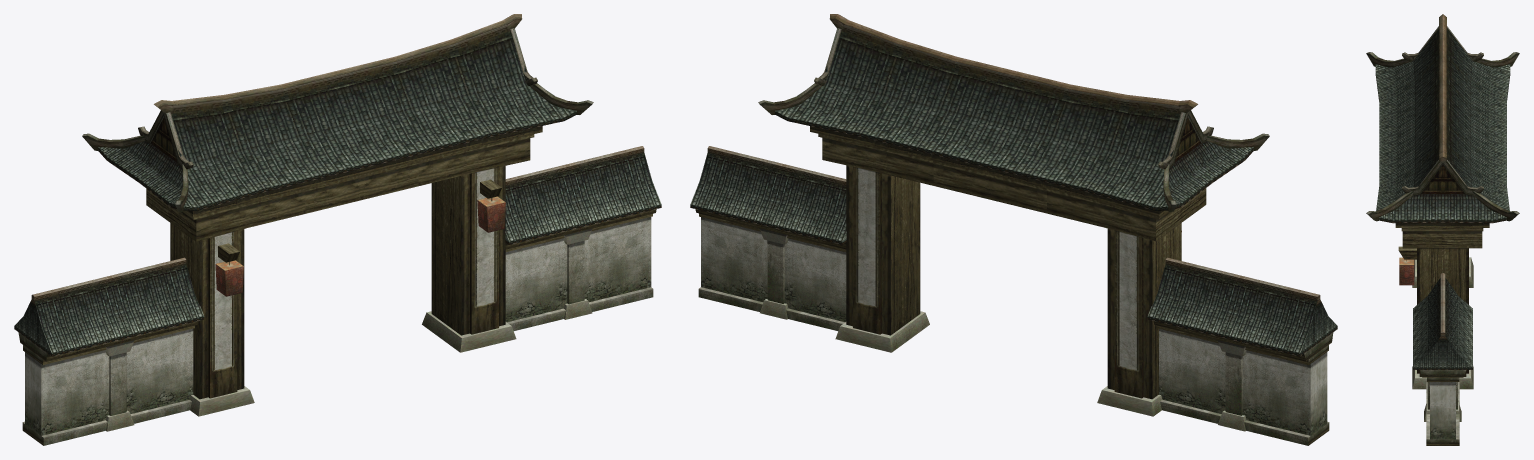
Rendered from ob-10-02-wall-door.fbx.
The picture shows the model from 3 angles, left to right: view 1: azimuth 30°, elevation 25°; view 2: azimuth 150°, elevation 25°; view 3: azimuth 270°, elevation 25°; orthographic projection. The views are drawn at different scales.
Visible parts, largest first — view 1: Object05; view 2: Object05; view 3: Object05.
Part boxes in pixels (x1,y1,x2,y2): Object05: (14,14,661,445); Object05: (690,14,1337,445); Object05: (1366,14,1519,445).
Size of the model in its own units: 20 by 9.62 by 5.49.
